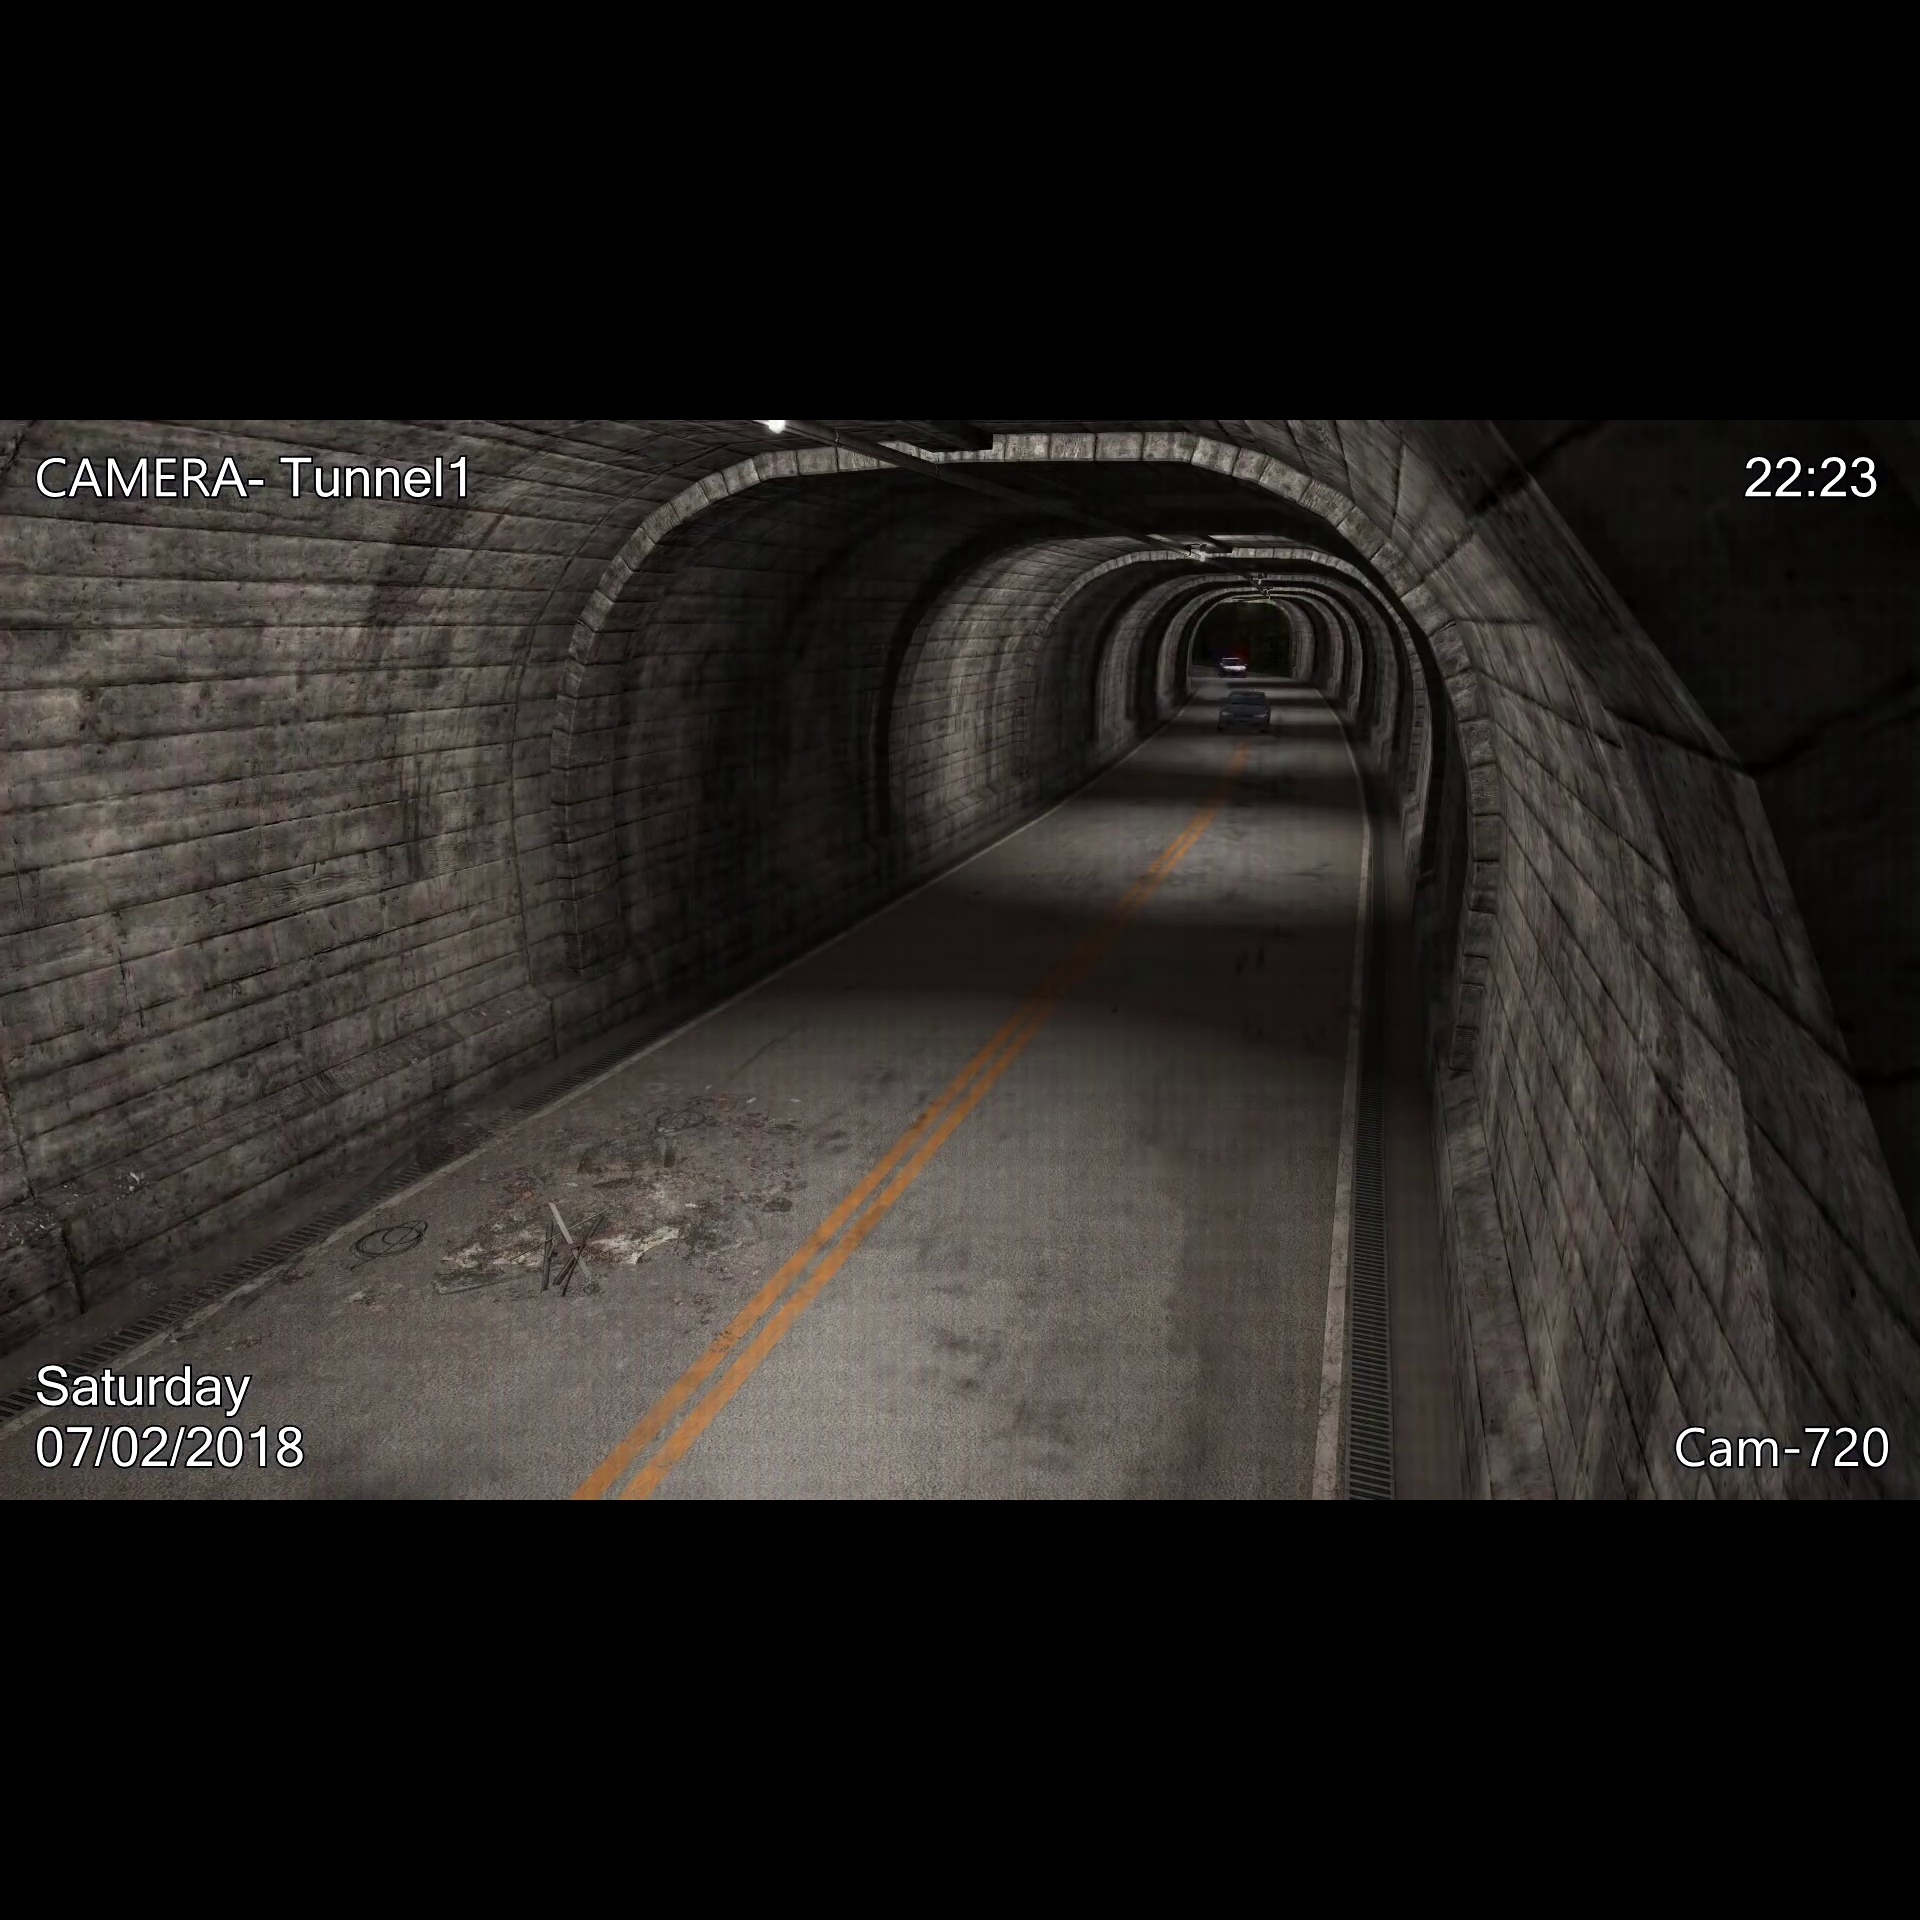vehicle: (1206, 687, 1285, 742), (1217, 652, 1255, 680)
